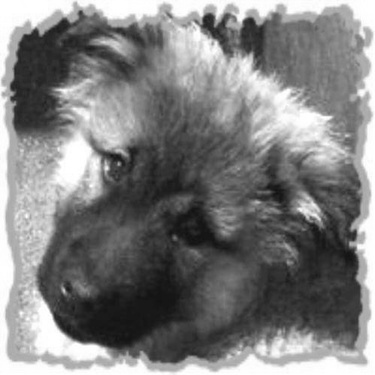dog: (26, 4, 366, 363)
